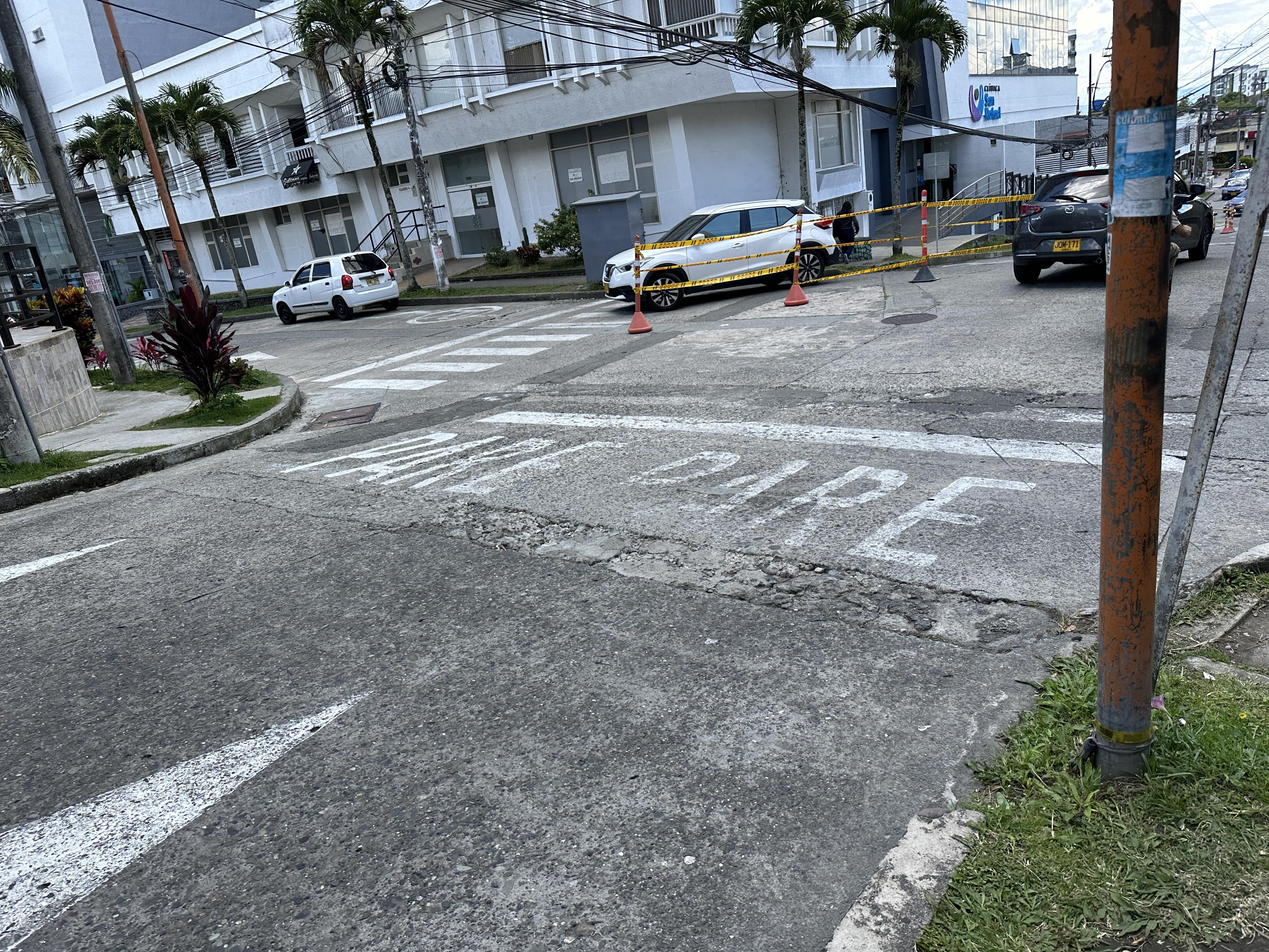bache: (412, 503, 1063, 652), (877, 388, 954, 403), (1027, 394, 1067, 406)
registro: (882, 313, 936, 326)
rejilla: (297, 402, 381, 433)
